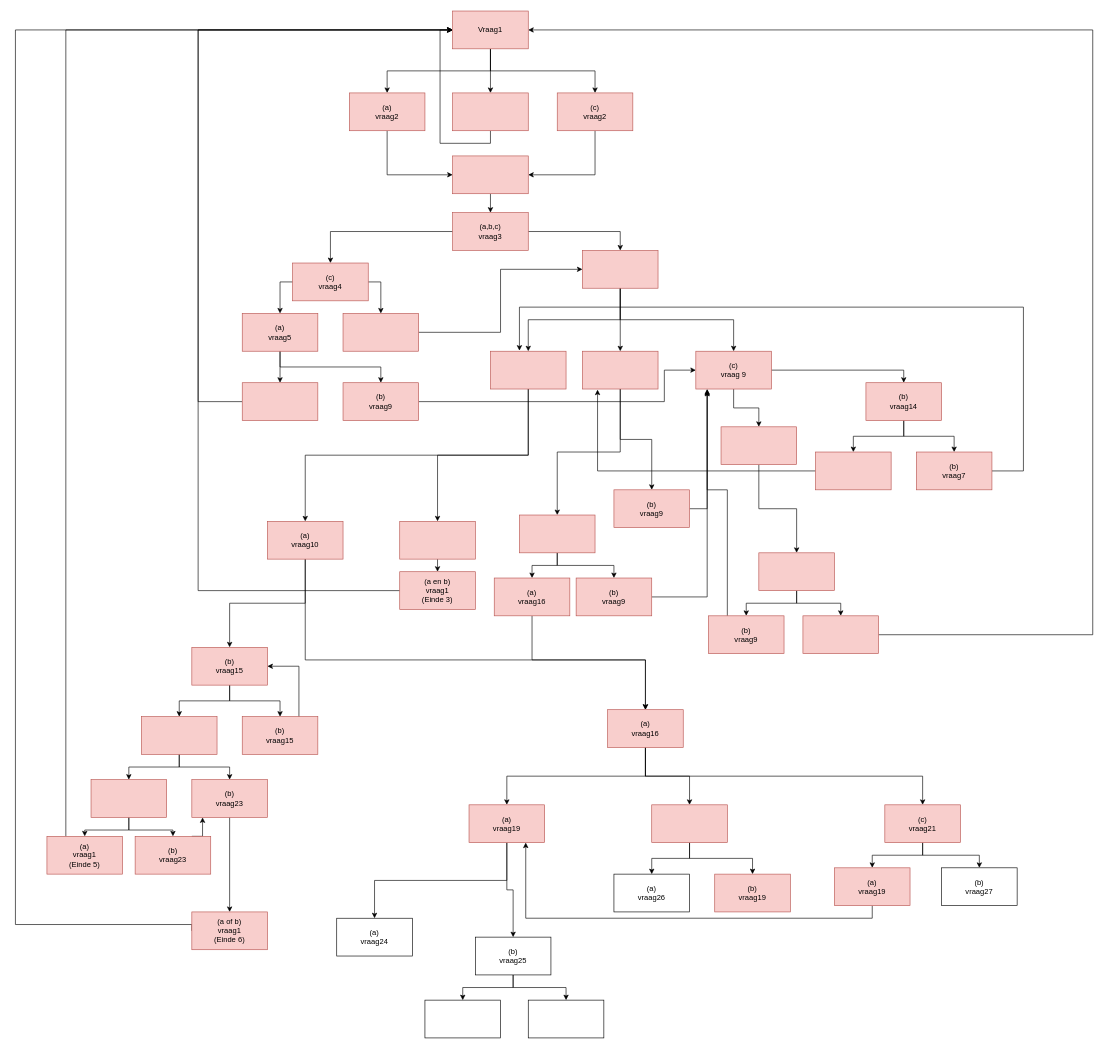
The diagram is 1109 pixels wide and 1049 high, and some of its shapes have lost their labels. The shapes that lost their labels are listed below. From the top down, each one's centre as x and y in pixels, then its label:
At (490,111): "(b) 1ste einde vraag1".
At (490,174): "vraag2".
At (620,269): "(a,c) vraag6".
At (380,332): "(b) vraag6".
At (528,370): "(a) vraag7".
At (620,370): "(b) vraag8".
At (280,401): "(a 2de einde) vraag1".
At (758,445): "(a) vraag13".
At (853,470): "(a) vraag8".
At (437,540): "(b) vraag11".
At (557,533): "(a) vraag12".
At (796,571): "(a, b of c) vraag 17".
At (840,634): "(a) vraag1 (Einde 4)".
At (179,735): "(a) vraag18".
At (128,798): "(a) vraag22".
At (689,823): "(b) vraag20".
